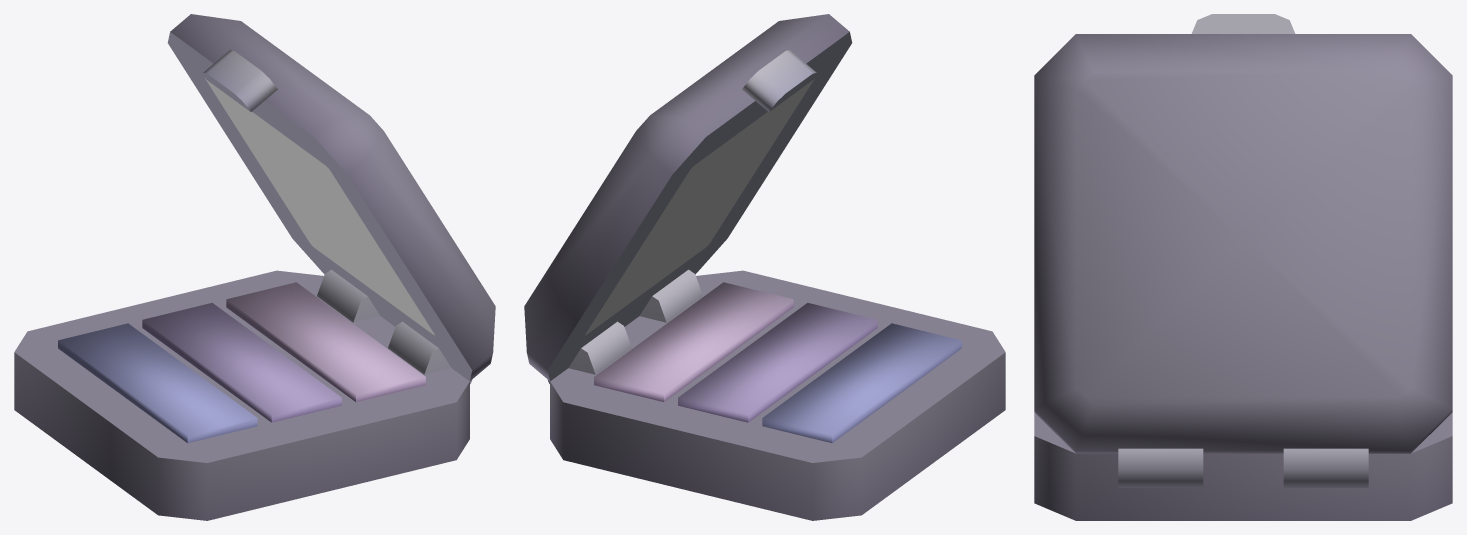
The model's file is makeup-palette-square.glb.
3 renders of one model, left to right at view 1: azimuth 30°, elevation 25°; view 2: azimuth 150°, elevation 25°; view 3: azimuth 270°, elevation 25°, orthographic. The views are drawn at different scales.
Parts seen in each view (by area): view 1: makeup-palette-square; view 2: makeup-palette-square; view 3: makeup-palette-square.
Part boxes in pixels (bbox=[...]): makeup-palette-square: bbox=[14, 14, 495, 520]; makeup-palette-square: bbox=[524, 14, 1005, 520]; makeup-palette-square: bbox=[1034, 14, 1452, 520].
Size of the model in its own units: 0.2207 by 0.2224 by 0.2.
